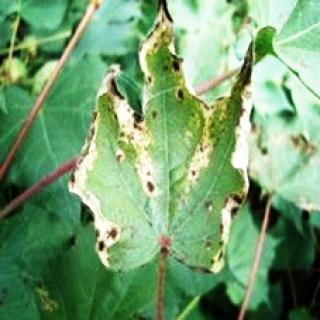leaf spot: (81, 18, 251, 286)
